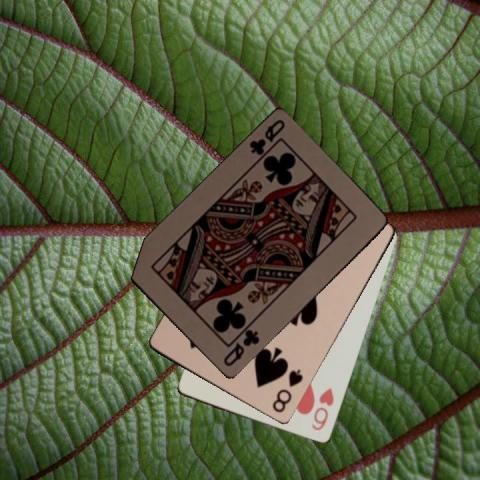6h: (308, 384, 335, 433)
8s: (269, 366, 305, 415)
Qc: (220, 327, 261, 368), (246, 117, 287, 157)
